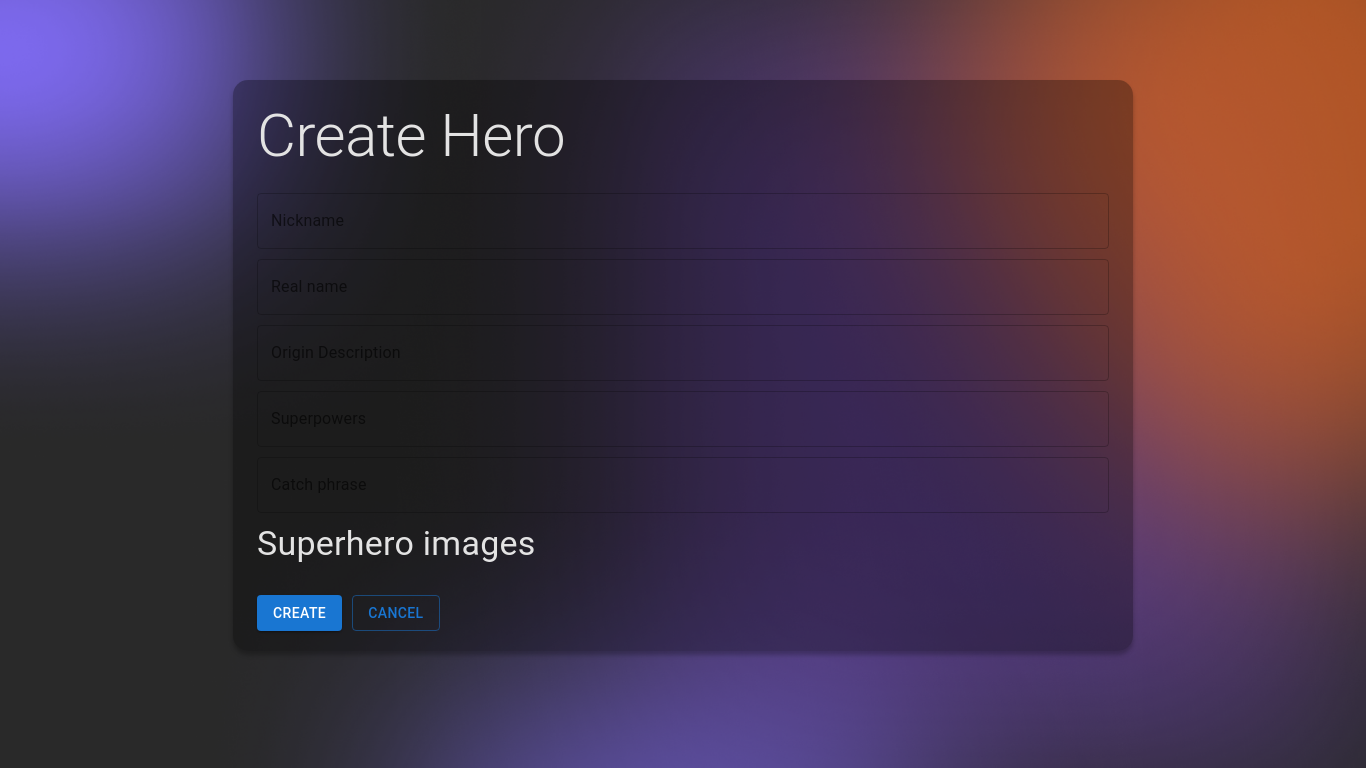
Scenario: Create Hero Page test › text field should be at least 2 characters
The image size is (1366, 768).
Type "a" into the field labelled "Nickname". click: coordinates (683, 221)
box: [257,193,1109,249]
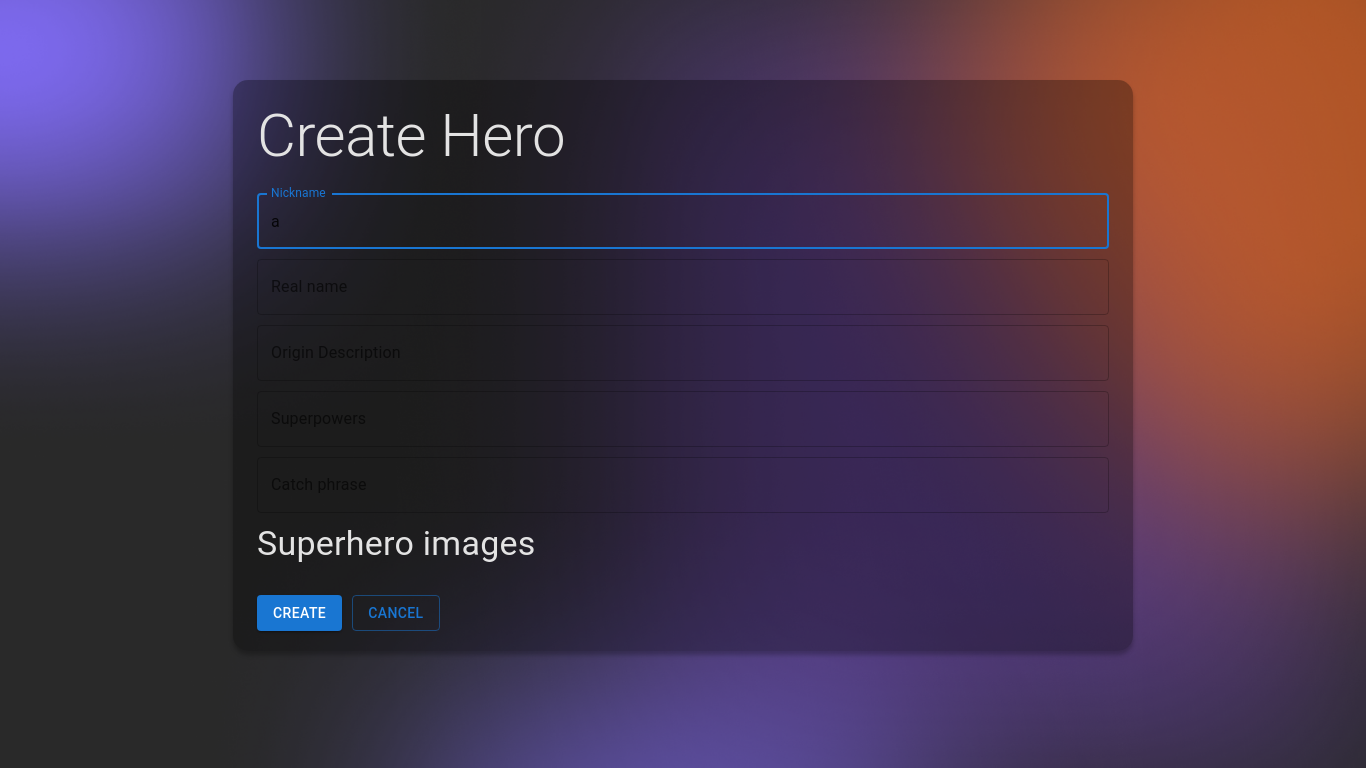
Type "a" into the field next to "Real name". click: coordinates (683, 287)
box: [257,259,1109,315]
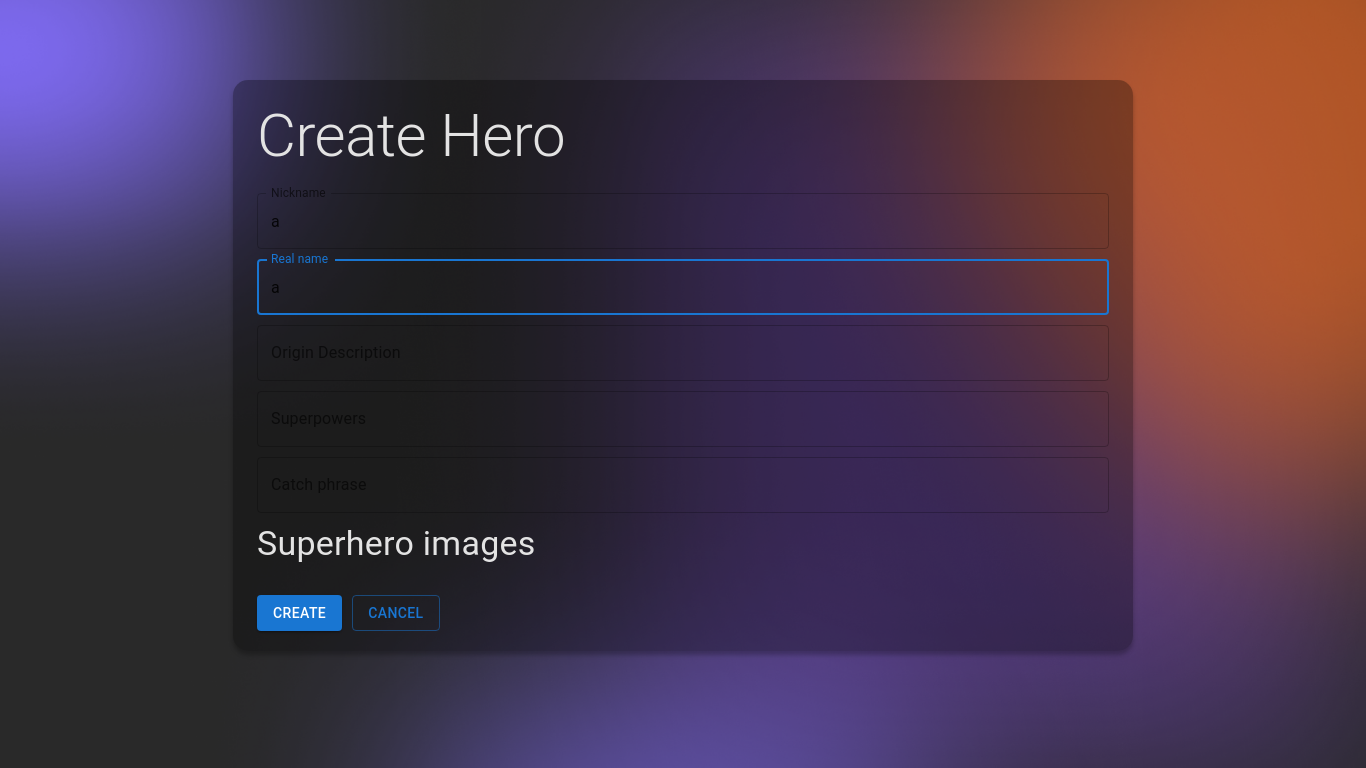
Type "a" into the field next to "Origin Description". click: coordinates (683, 353)
box: [257,325,1109,381]
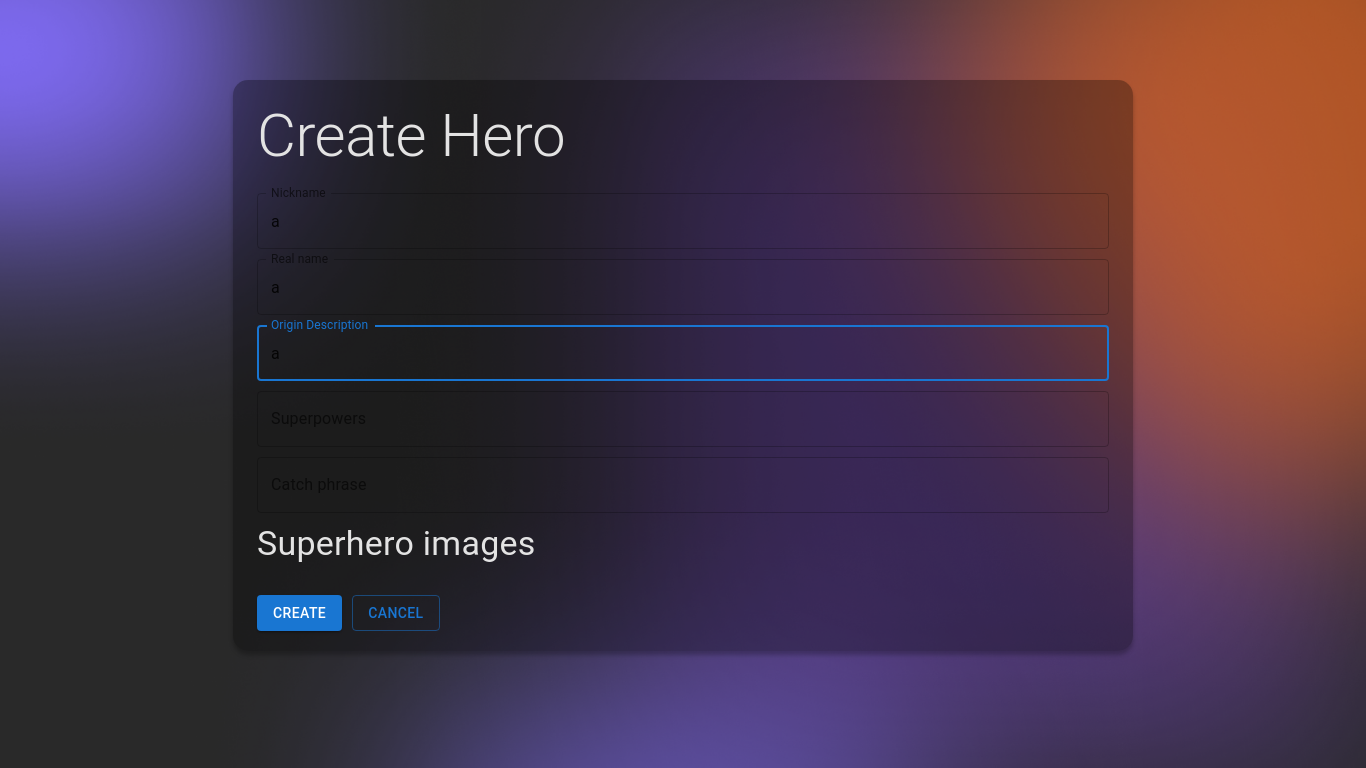
Type "a" into the field next to "Superpowers". click: coordinates (683, 419)
box: [257,391,1109,447]
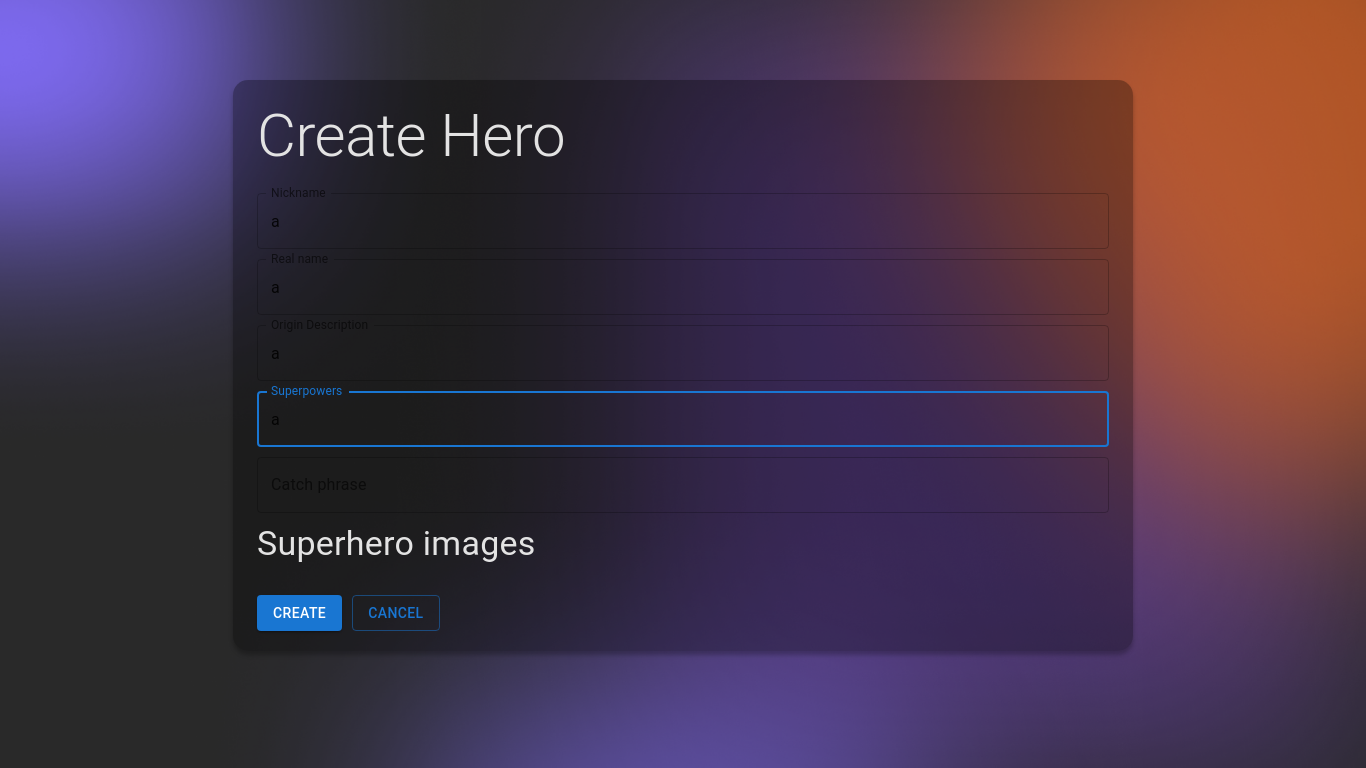
Type "a" into the field next to "Catch phrase". click: coordinates (683, 485)
box: [257,457,1109,513]
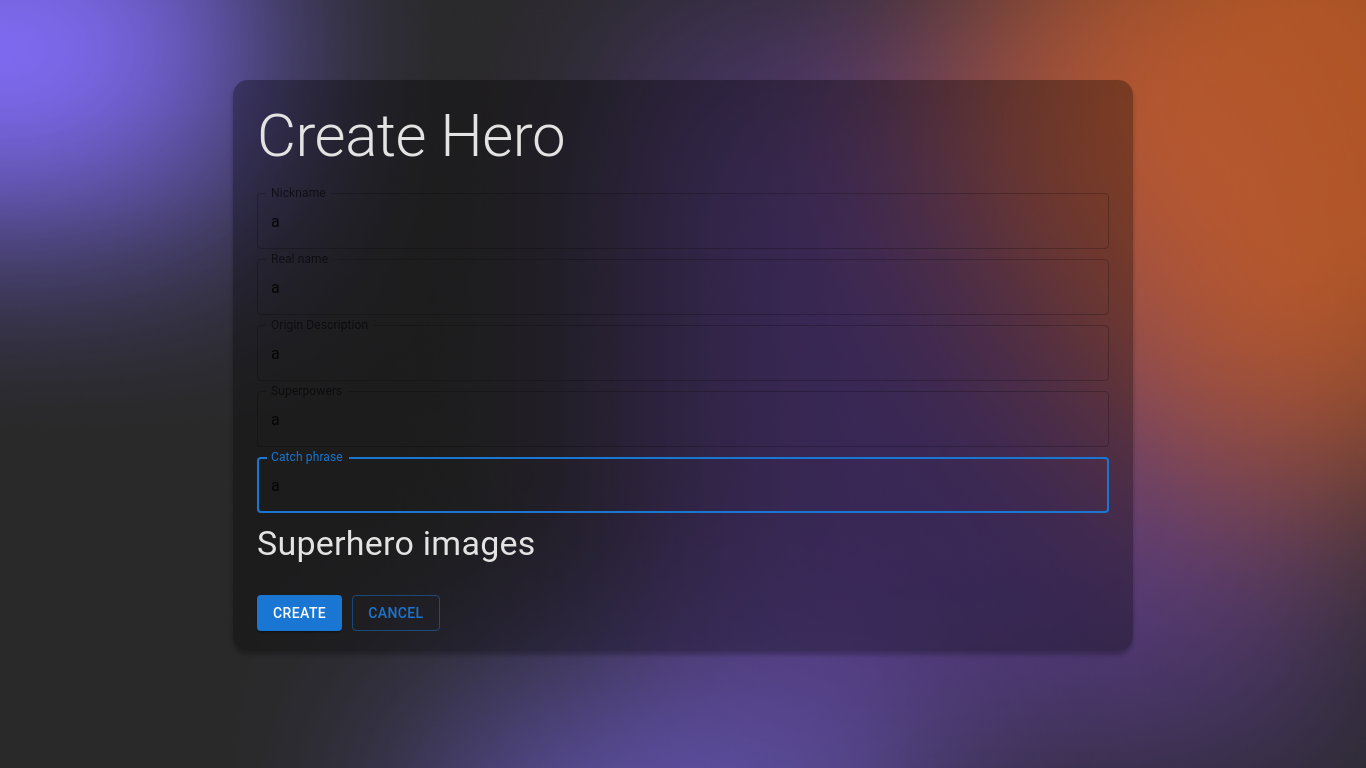
Click the button "Create". click: coordinates (300, 613)
box: [257,595,342,632]
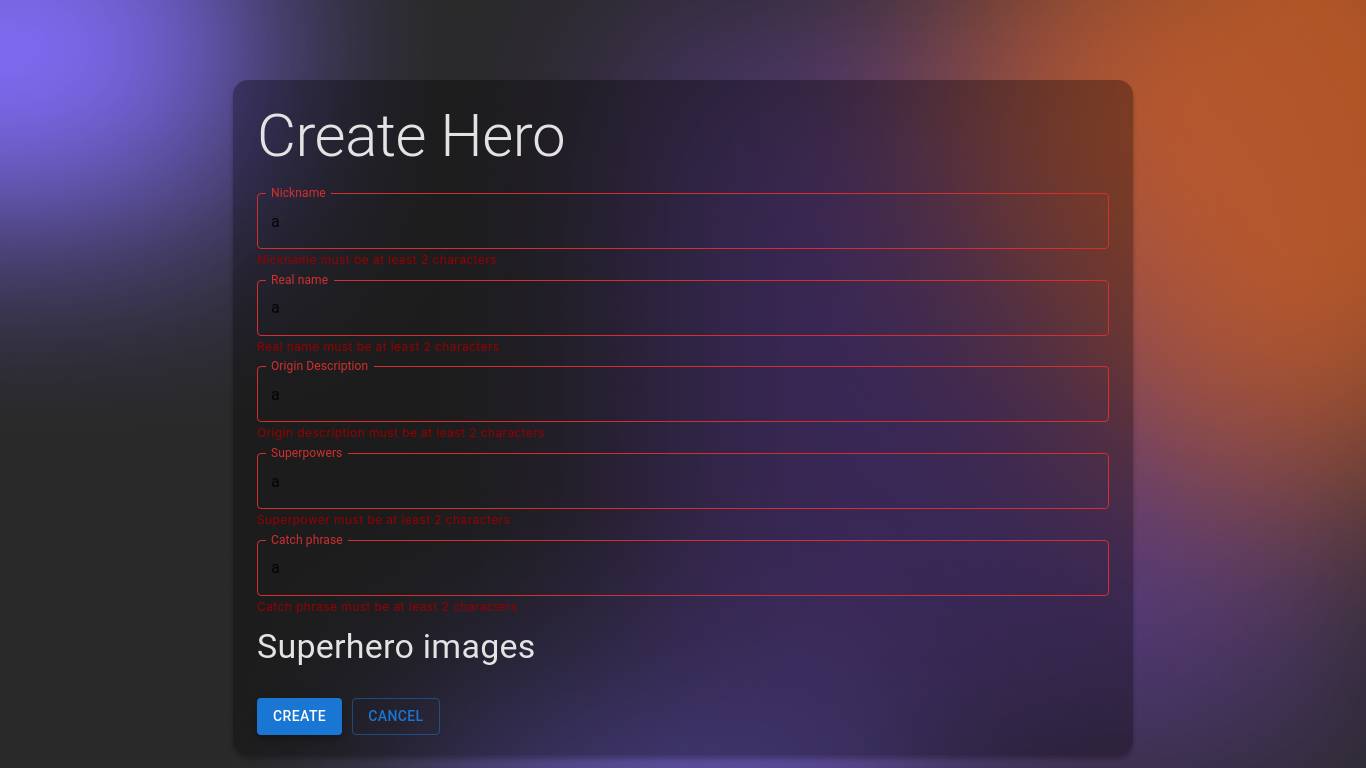
Expected: the text "Nickname must be at least 2 characters" is shown 5 times, [257,252,497,267]; [257,338,500,353]; [257,425,545,440]; [257,512,510,527]; [257,598,517,614]
